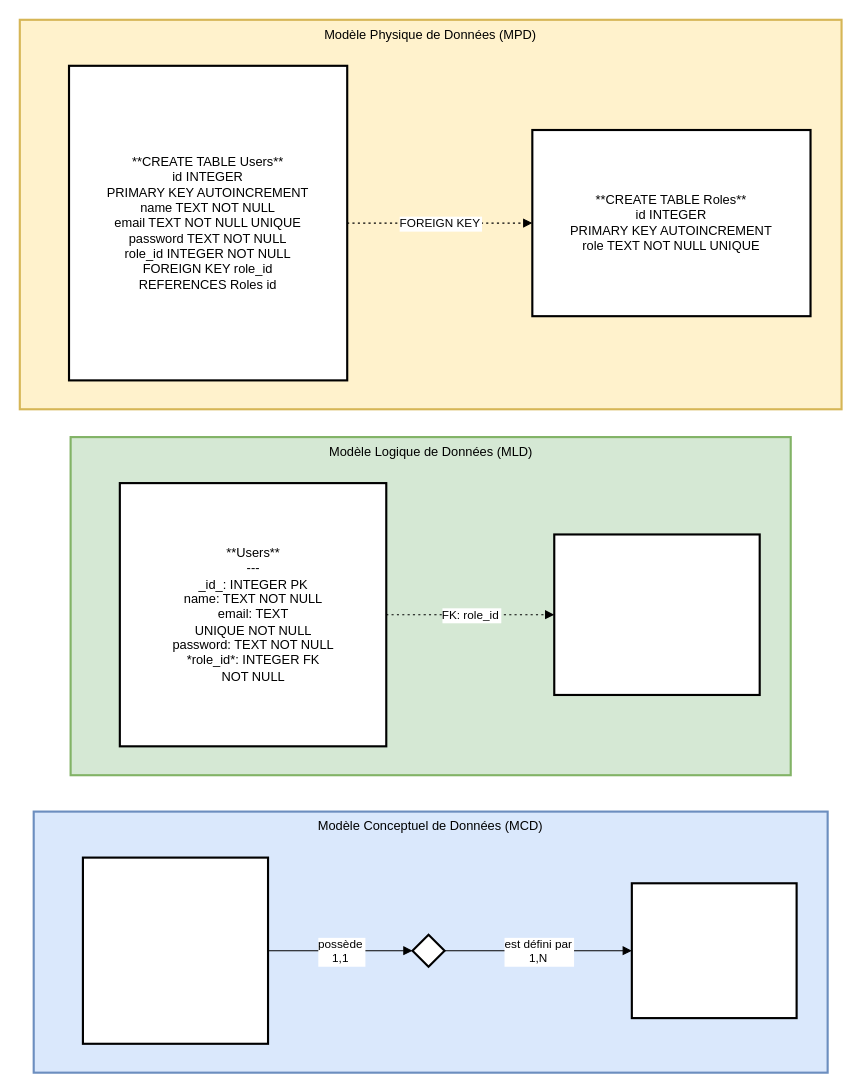
Image size: 860x1091. Some labels were removed from this diagram. Each missing label, with the centre of its shape:
"**ROLE** --- #id: INTEGER role: TEXT" goes at (x=713, y=950).
"**Roles** --- _id_: INTEGER PK role: TEXT UNIQUE NOT NULL" goes at (x=656, y=614).
"**USER** --- #id: INTEGER name: TEXT email: TEXT password: TEXT" goes at (x=175, y=950).
